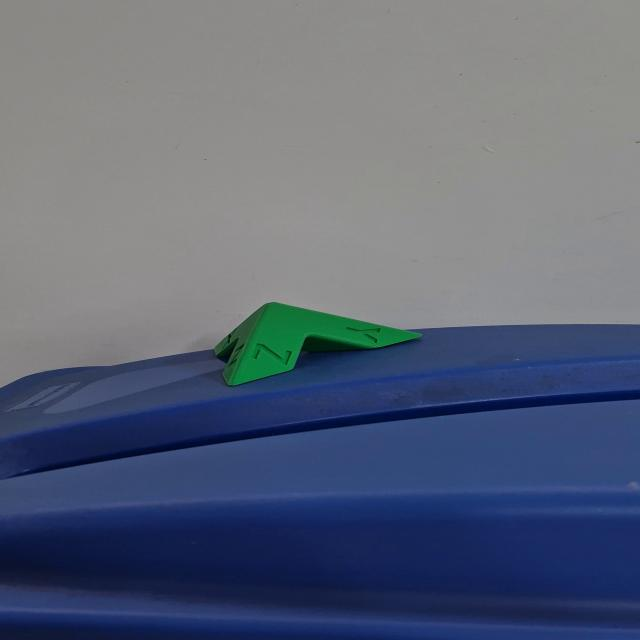objects: (210, 300, 425, 388)
